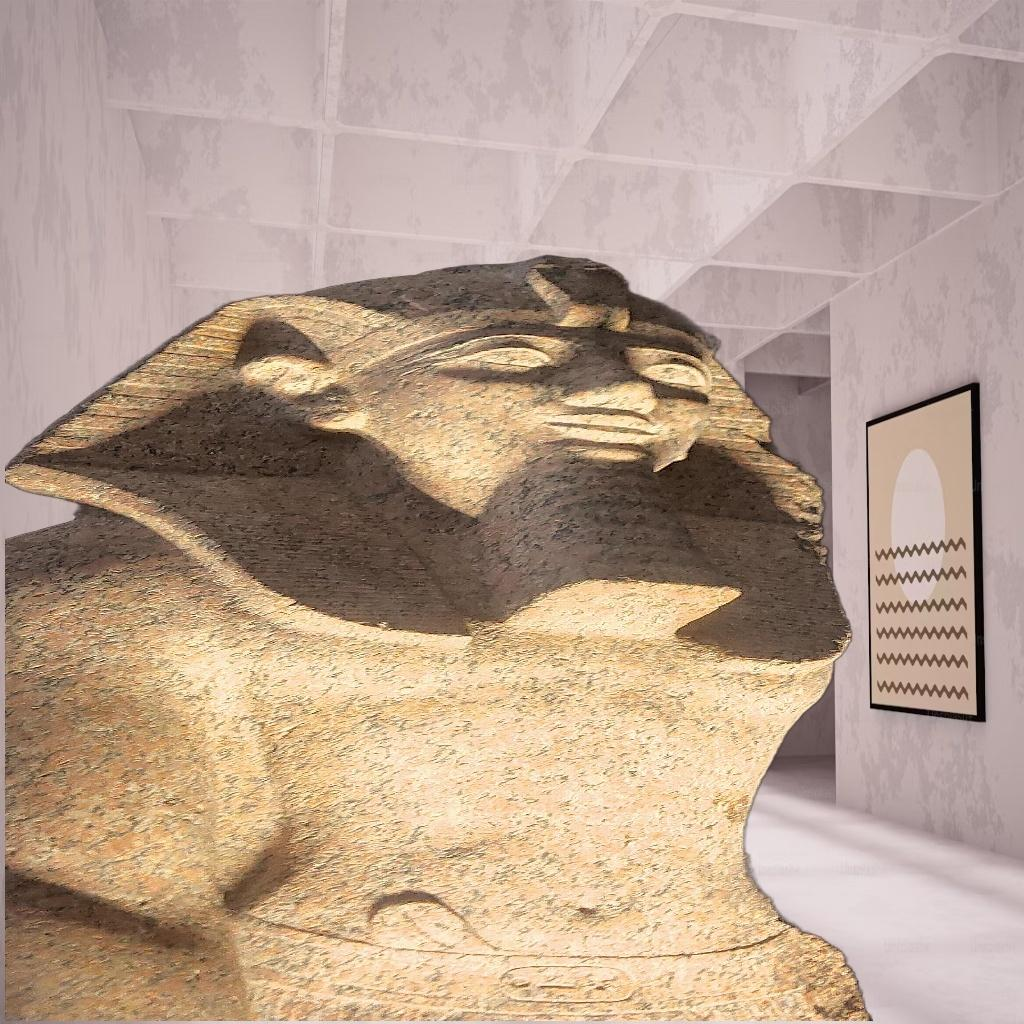Standing Statue of Thutmose III: (5, 252, 873, 1021)
